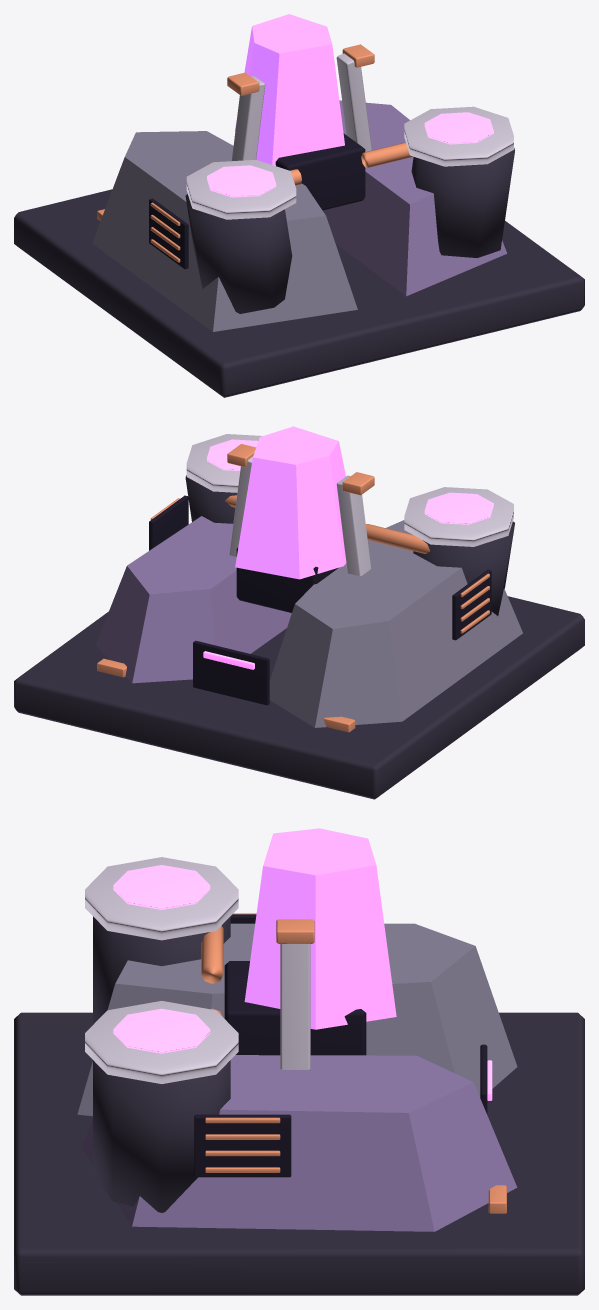
Rendered from vesper-power-plant.glb.
3 views of the same model, one above another, from view 1: azimuth 30°, elevation 25°; view 2: azimuth 150°, elevation 25°; view 3: azimuth 270°, elevation 25° (orthographic). The views are drawn at different scales.
Visible parts, largest first — view 1: Vesper reactor skid, Left containment shell, Right containment shell, Containment fork, Exposed ion crystal, Reactor core socket, Ion spine luminous face, Fork warning cap; view 2: Vesper reactor skid, Left containment shell, Right containment shell, Exposed ion crystal, Containment fork, Reactor core socket, Fork warning cap, Ion spine luminous face; view 3: Vesper reactor skid, Right containment shell, Left containment shell, Exposed ion crystal, Containment fork, Reactor core socket, Ion spine luminous face, Fork warning cap.
Part boxes in pixels (bbox=[...]): Vesper reactor skid: bbox=[14, 148, 584, 397]; Left containment shell: bbox=[92, 131, 357, 331]; Right containment shell: bbox=[323, 100, 507, 296]; Containment fork: bbox=[186, 53, 513, 219]; Exposed ion crystal: bbox=[235, 14, 344, 165]; Reactor core socket: bbox=[149, 133, 365, 269]; Ion spine luminous face: bbox=[207, 112, 493, 197]; Fork warning cap: bbox=[97, 44, 412, 262]; Vesper reactor skid: bbox=[14, 475, 584, 799]; Left containment shell: bbox=[269, 520, 522, 727]; Right containment shell: bbox=[96, 516, 291, 683]; Exposed ion crystal: bbox=[235, 426, 346, 579]; Containment fork: bbox=[186, 434, 513, 575]; Reactor core socket: bbox=[149, 495, 491, 705]; Fork warning cap: bbox=[97, 444, 489, 732]; Ion spine luminous face: bbox=[203, 439, 493, 669]; Vesper reactor skid: bbox=[14, 916, 584, 1295]; Right containment shell: bbox=[81, 1055, 517, 1231]; Left containment shell: bbox=[77, 923, 517, 1116]; Exposed ion crystal: bbox=[244, 828, 396, 1029]; Containment fork: bbox=[85, 857, 310, 1083]; Reactor core socket: bbox=[194, 914, 487, 1177]; Ion spine luminous face: bbox=[113, 865, 492, 1100]; Fork warning cap: bbox=[201, 913, 506, 1213].
Size of the model in its own units: 2.82 by 1.77 by 2.82.
